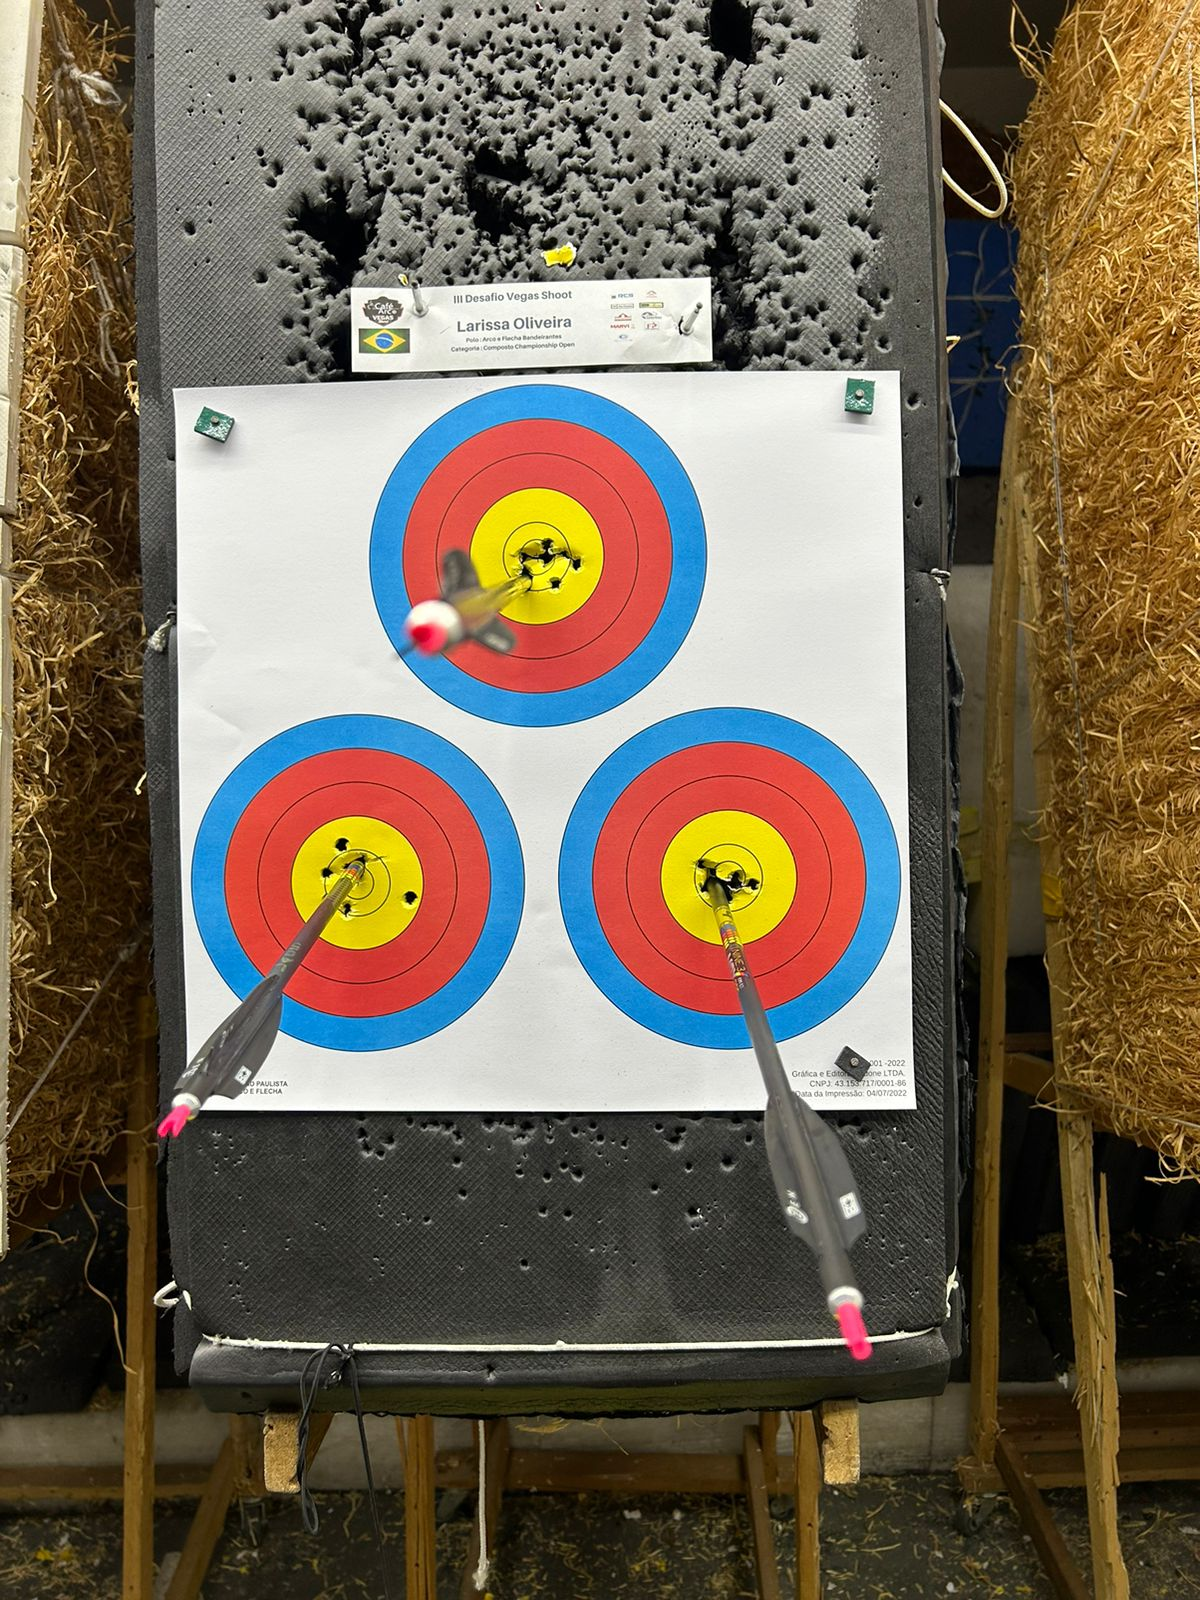10: (192, 724, 560, 1066), (584, 724, 913, 1083)
9 linha 10: (347, 386, 725, 729)
